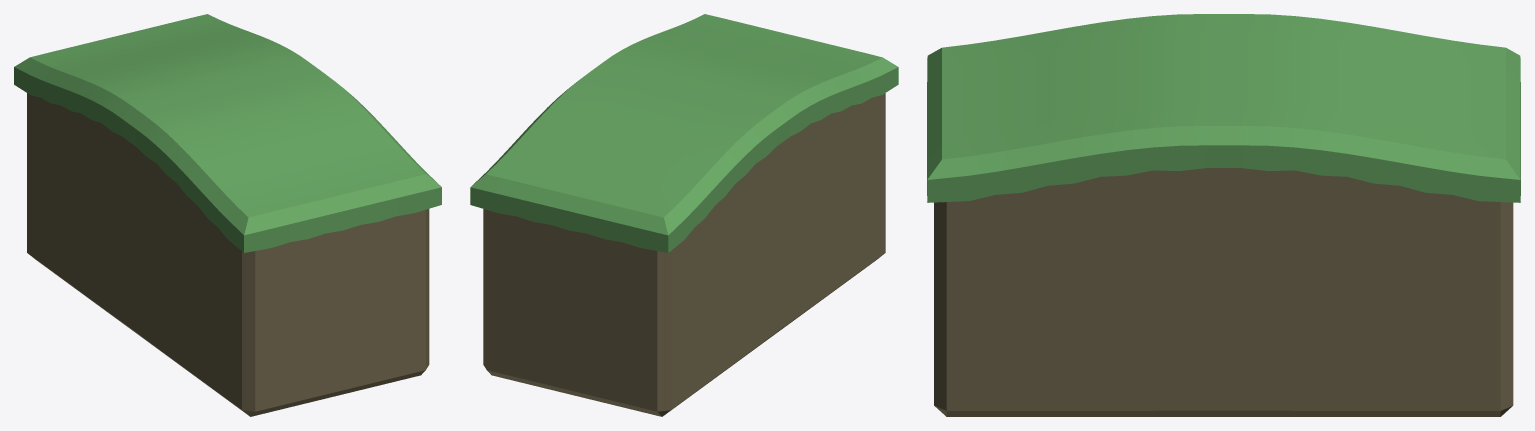
The model's file is Grass_block_curves_long.fbx.
3 renders of one model, left to right at view 1: azimuth 30°, elevation 25°; view 2: azimuth 150°, elevation 25°; view 3: azimuth 270°, elevation 25°, orthographic. The views are drawn at different scales.
Visible parts, largest first — view 1: Dirt, Grass; view 2: Dirt, Grass; view 3: Dirt, Grass.
Part boxes in pixels (bbox=[...]): Dirt: bbox=[27, 93, 429, 416]; Grass: bbox=[14, 14, 441, 252]; Dirt: bbox=[483, 93, 885, 416]; Grass: bbox=[470, 14, 898, 252]; Dirt: bbox=[934, 168, 1513, 416]; Grass: bbox=[927, 14, 1520, 202].
Size of the model in its own units: 118 by 129 by 237.
